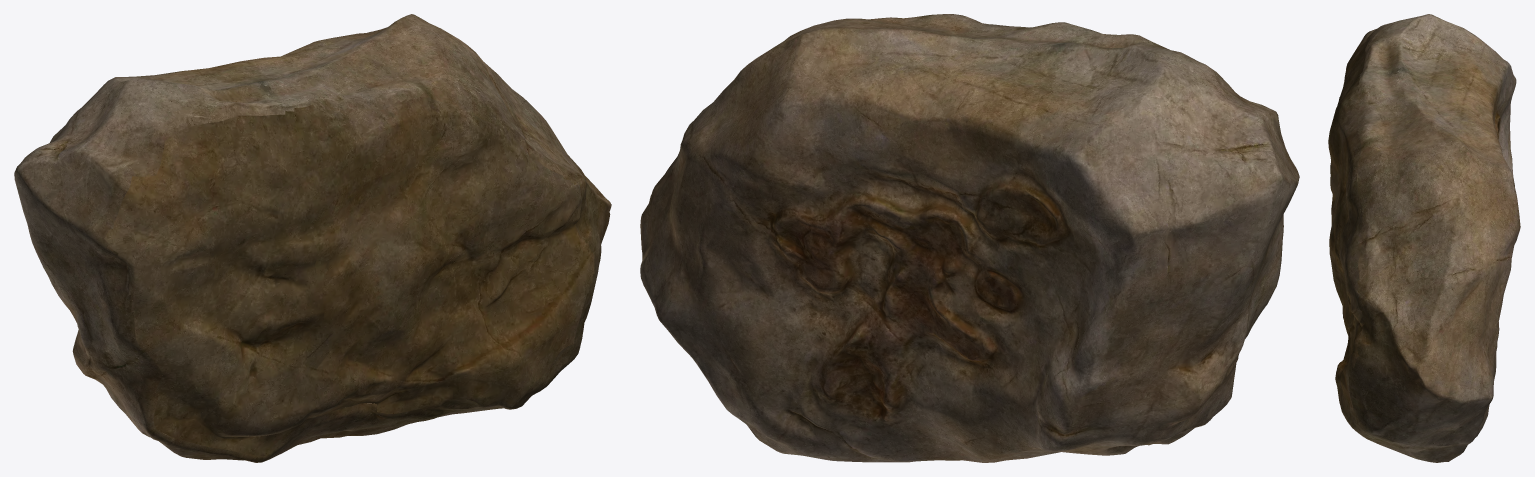
File: rock-lite.glb
3 views of the same model, side by side, from view 1: azimuth 30°, elevation 25°; view 2: azimuth 150°, elevation 25°; view 3: azimuth 270°, elevation 25° (orthographic). The views are drawn at different scales.
Parts seen in each view (by area): view 1: rockHero_low; view 2: rockHero_low; view 3: rockHero_low.
Part boxes in pixels (x1,y1,x2,y2): rockHero_low: (14,14,611,462); rockHero_low: (640,14,1299,462); rockHero_low: (1328,14,1520,462).
Bounding box in the file's own units: 3.51 × 2.41 × 1.3.
2 materials, 2 textured.
